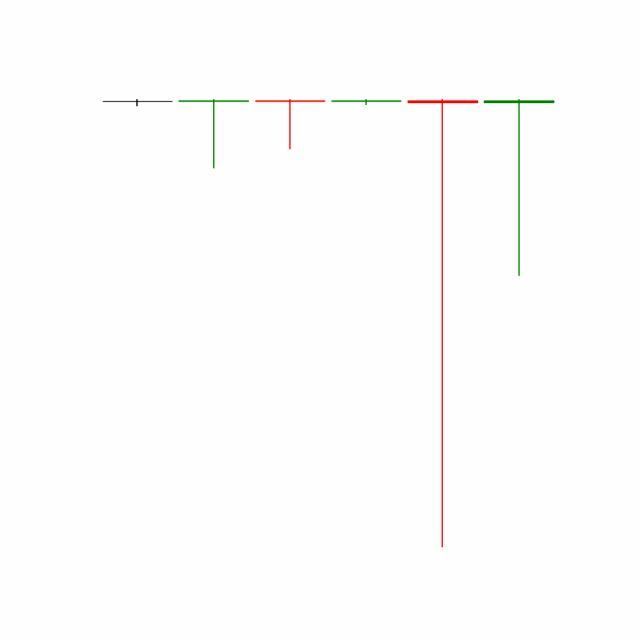Dragonfly Doji: (404, 95, 482, 553)
